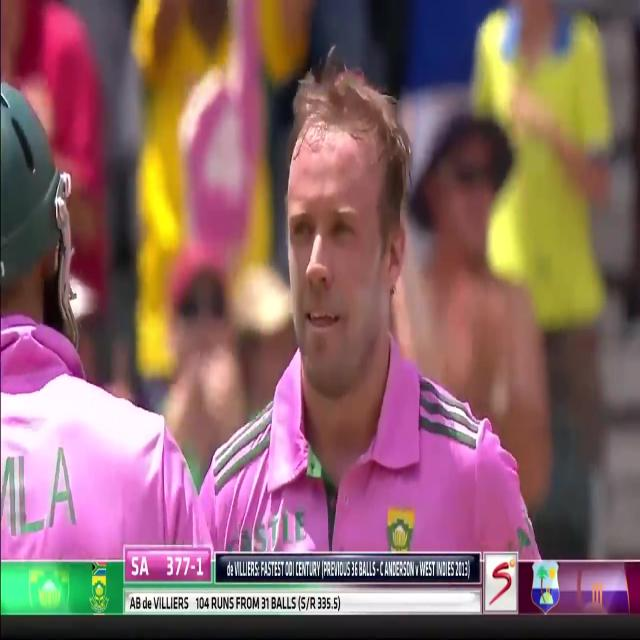Ball: (191, 29, 536, 556), (0, 73, 201, 565)
